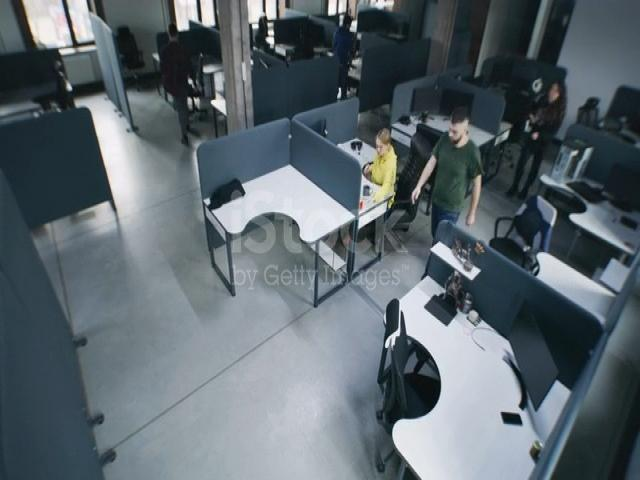empty chair: (362, 284, 443, 468), (491, 182, 557, 274), (188, 48, 226, 142), (105, 13, 150, 85), (415, 114, 458, 160), (42, 55, 85, 98), (580, 94, 614, 134), (499, 80, 525, 130)
occupiedchair: (358, 116, 417, 228), (328, 36, 373, 100)
